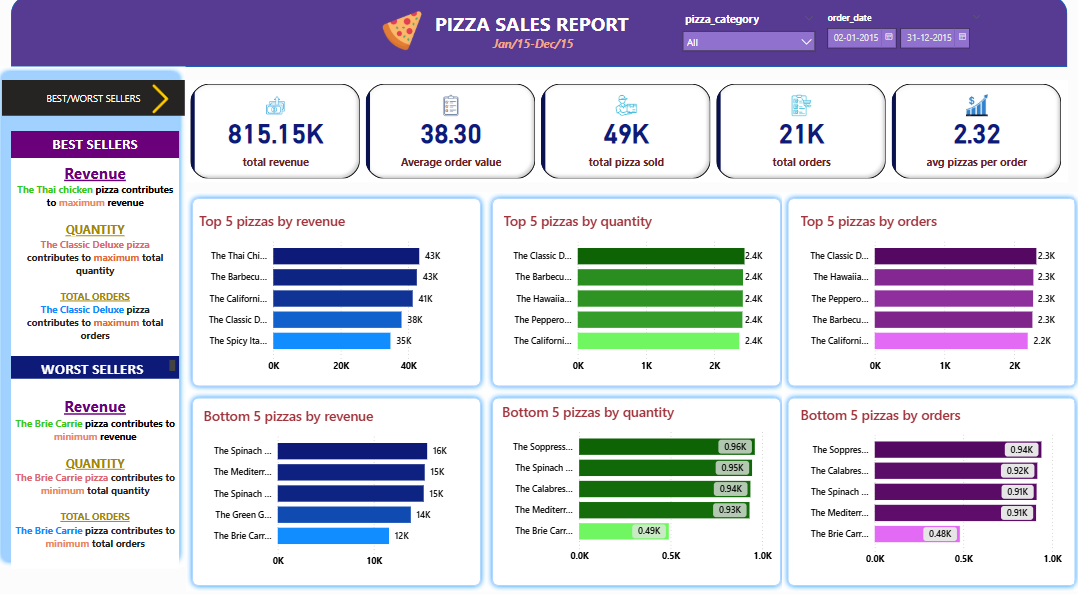

What the dashboard file says about the page in this screenshot:
{"tool":"powerbi","page":{"name":"BEST/WORST SELLERS","canvas":[1500,900],"ordinal":1},"visuals":[{"type":"cardVisual","fields":{"Data":["pizza_sales.total revenue","pizza_sales.averageorder value","pizza_sales.total pizza sold","pizza_sales.total orders","pizza_sales.avg pizzas per order"]},"box":[262.2,132.1,1216.8,141.5],"z":0},{"type":"shape","box":[20.8,17,1458.3,98.1],"z":1000},{"type":"textbox","box":[575.4,30.2,328.3,49.1],"z":2000},{"type":"textbox","box":[666,66,149,41.5],"z":3000},{"type":"image","box":[526.3,32.1,69.8,66],"z":4000},{"type":"shape","box":[263,287.8,414.1,275.4],"z":5000},{"type":"shape","box":[0,113.9,261.1,690.7],"z":15000},{"type":"textbox","box":[20.7,202.9,231.9,37.3],"z":16000},{"type":"textbox","box":[20.7,544.6,231.9,263],"z":17000},{"type":"textbox","box":[20.7,240.2,231.9,273.3],"z":18000},{"type":"textbox","box":[20.7,513.5,231.9,31.1],"z":19000},{"type":"slicer","fields":{"Values":["pizza_sales1.order_date"]},"box":[1134.7,33.1,236,64.2],"z":20000},{"type":"slicer","fields":{"Values":["pizza_sales1.pizza_category"]},"box":[938,33.1,202.9,64.2],"z":21000},{"type":"shape","box":[677.1,287.8,414.1,275.4],"z":21001},{"type":"shape","box":[1085,287.8,414.1,275.4],"z":21002},{"type":"shape","box":[263,563.2,414.1,275.4],"z":21003},{"type":"shape","box":[677.1,563.2,414.1,275.4],"z":21004},{"type":"shape","box":[1085,563.2,414.1,275.4],"z":21005},{"type":"barChart","title":"Top 5  pizzas by revenue","fields":{"Category":["pizza_sales1.pizza_name"],"Y":["pizza_sales.total revenue"]},"box":[274.6,314.1,374.6,230.4],"z":21006},{"type":"barChart","title":"Bottom 5  pizzas by revenue","fields":{"Category":["pizza_sales1.pizza_name"],"Y":["pizza_sales.total revenue"]},"box":[281.5,584,374.6,230.4],"z":21007},{"type":"barChart","title":"Top 5  pizzas by quantity","fields":{"Category":["pizza_sales1.pizza_name"],"Y":["pizza_sales.total pizza sold"]},"box":[695.7,314.1,374.6,230.4],"z":21008},{"type":"barChart","title":"Bottom 5  pizzas by quantity","fields":{"Category":["pizza_sales1.pizza_name"],"Y":["pizza_sales.total pizza sold"]},"box":[693.4,577.1,390.9,230.4],"z":21009},{"type":"barChart","title":"Top 5  pizzas by orders ","fields":{"Category":["pizza_sales1.pizza_name"],"Y":["pizza_sales.total orders"]},"box":[1105.2,314.1,374.6,230.4],"z":21010},{"type":"barChart","title":"Bottom 5 pizzas by orders","fields":{"Category":["pizza_sales1.pizza_name"],"Y":["pizza_sales.total orders"]},"box":[1105.7,581.8,374.8,229.8],"z":21011},{"type":"pageNavigator","box":[8.3,132.5,252.6,49.7],"z":21012},{"type":"image","box":[200.8,132.5,51.8,51.8],"z":21013}]}

Visuals, with their boxes on the page's 1500x900 design canvas (x1, y1, x2, y2). These are canvas units, not pixel positions in the 1078x594 screenshot, which may show the page scaled, cropped or inside an application window:
cardVisual - pizza_sales.total revenue x pizza_sales.averageorder value: [x1=262, y1=132, x2=1479, y2=274]
shape: [x1=21, y1=17, x2=1479, y2=115]
textbox: [x1=575, y1=30, x2=904, y2=79]
textbox: [x1=666, y1=66, x2=815, y2=108]
image: [x1=526, y1=32, x2=596, y2=98]
shape: [x1=263, y1=288, x2=677, y2=563]
shape: [x1=0, y1=114, x2=261, y2=805]
textbox: [x1=21, y1=203, x2=253, y2=240]
textbox: [x1=21, y1=545, x2=253, y2=808]
textbox: [x1=21, y1=240, x2=253, y2=514]
textbox: [x1=21, y1=514, x2=253, y2=545]
slicer - pizza_sales1.order_date: [x1=1135, y1=33, x2=1371, y2=97]
slicer - pizza_sales1.pizza_category: [x1=938, y1=33, x2=1141, y2=97]
shape: [x1=677, y1=288, x2=1091, y2=563]
shape: [x1=1085, y1=288, x2=1499, y2=563]
shape: [x1=263, y1=563, x2=677, y2=839]
shape: [x1=677, y1=563, x2=1091, y2=839]
shape: [x1=1085, y1=563, x2=1499, y2=839]
"Top 5  pizzas by revenue" barChart: [x1=275, y1=314, x2=649, y2=544]
"Bottom 5  pizzas by revenue" barChart: [x1=282, y1=584, x2=656, y2=814]
"Top 5  pizzas by quantity" barChart: [x1=696, y1=314, x2=1070, y2=544]
"Bottom 5  pizzas by quantity" barChart: [x1=693, y1=577, x2=1084, y2=808]
"Top 5  pizzas by orders " barChart: [x1=1105, y1=314, x2=1480, y2=544]
"Bottom 5 pizzas by orders" barChart: [x1=1106, y1=582, x2=1480, y2=812]
pageNavigator: [x1=8, y1=132, x2=261, y2=182]
image: [x1=201, y1=132, x2=253, y2=184]
